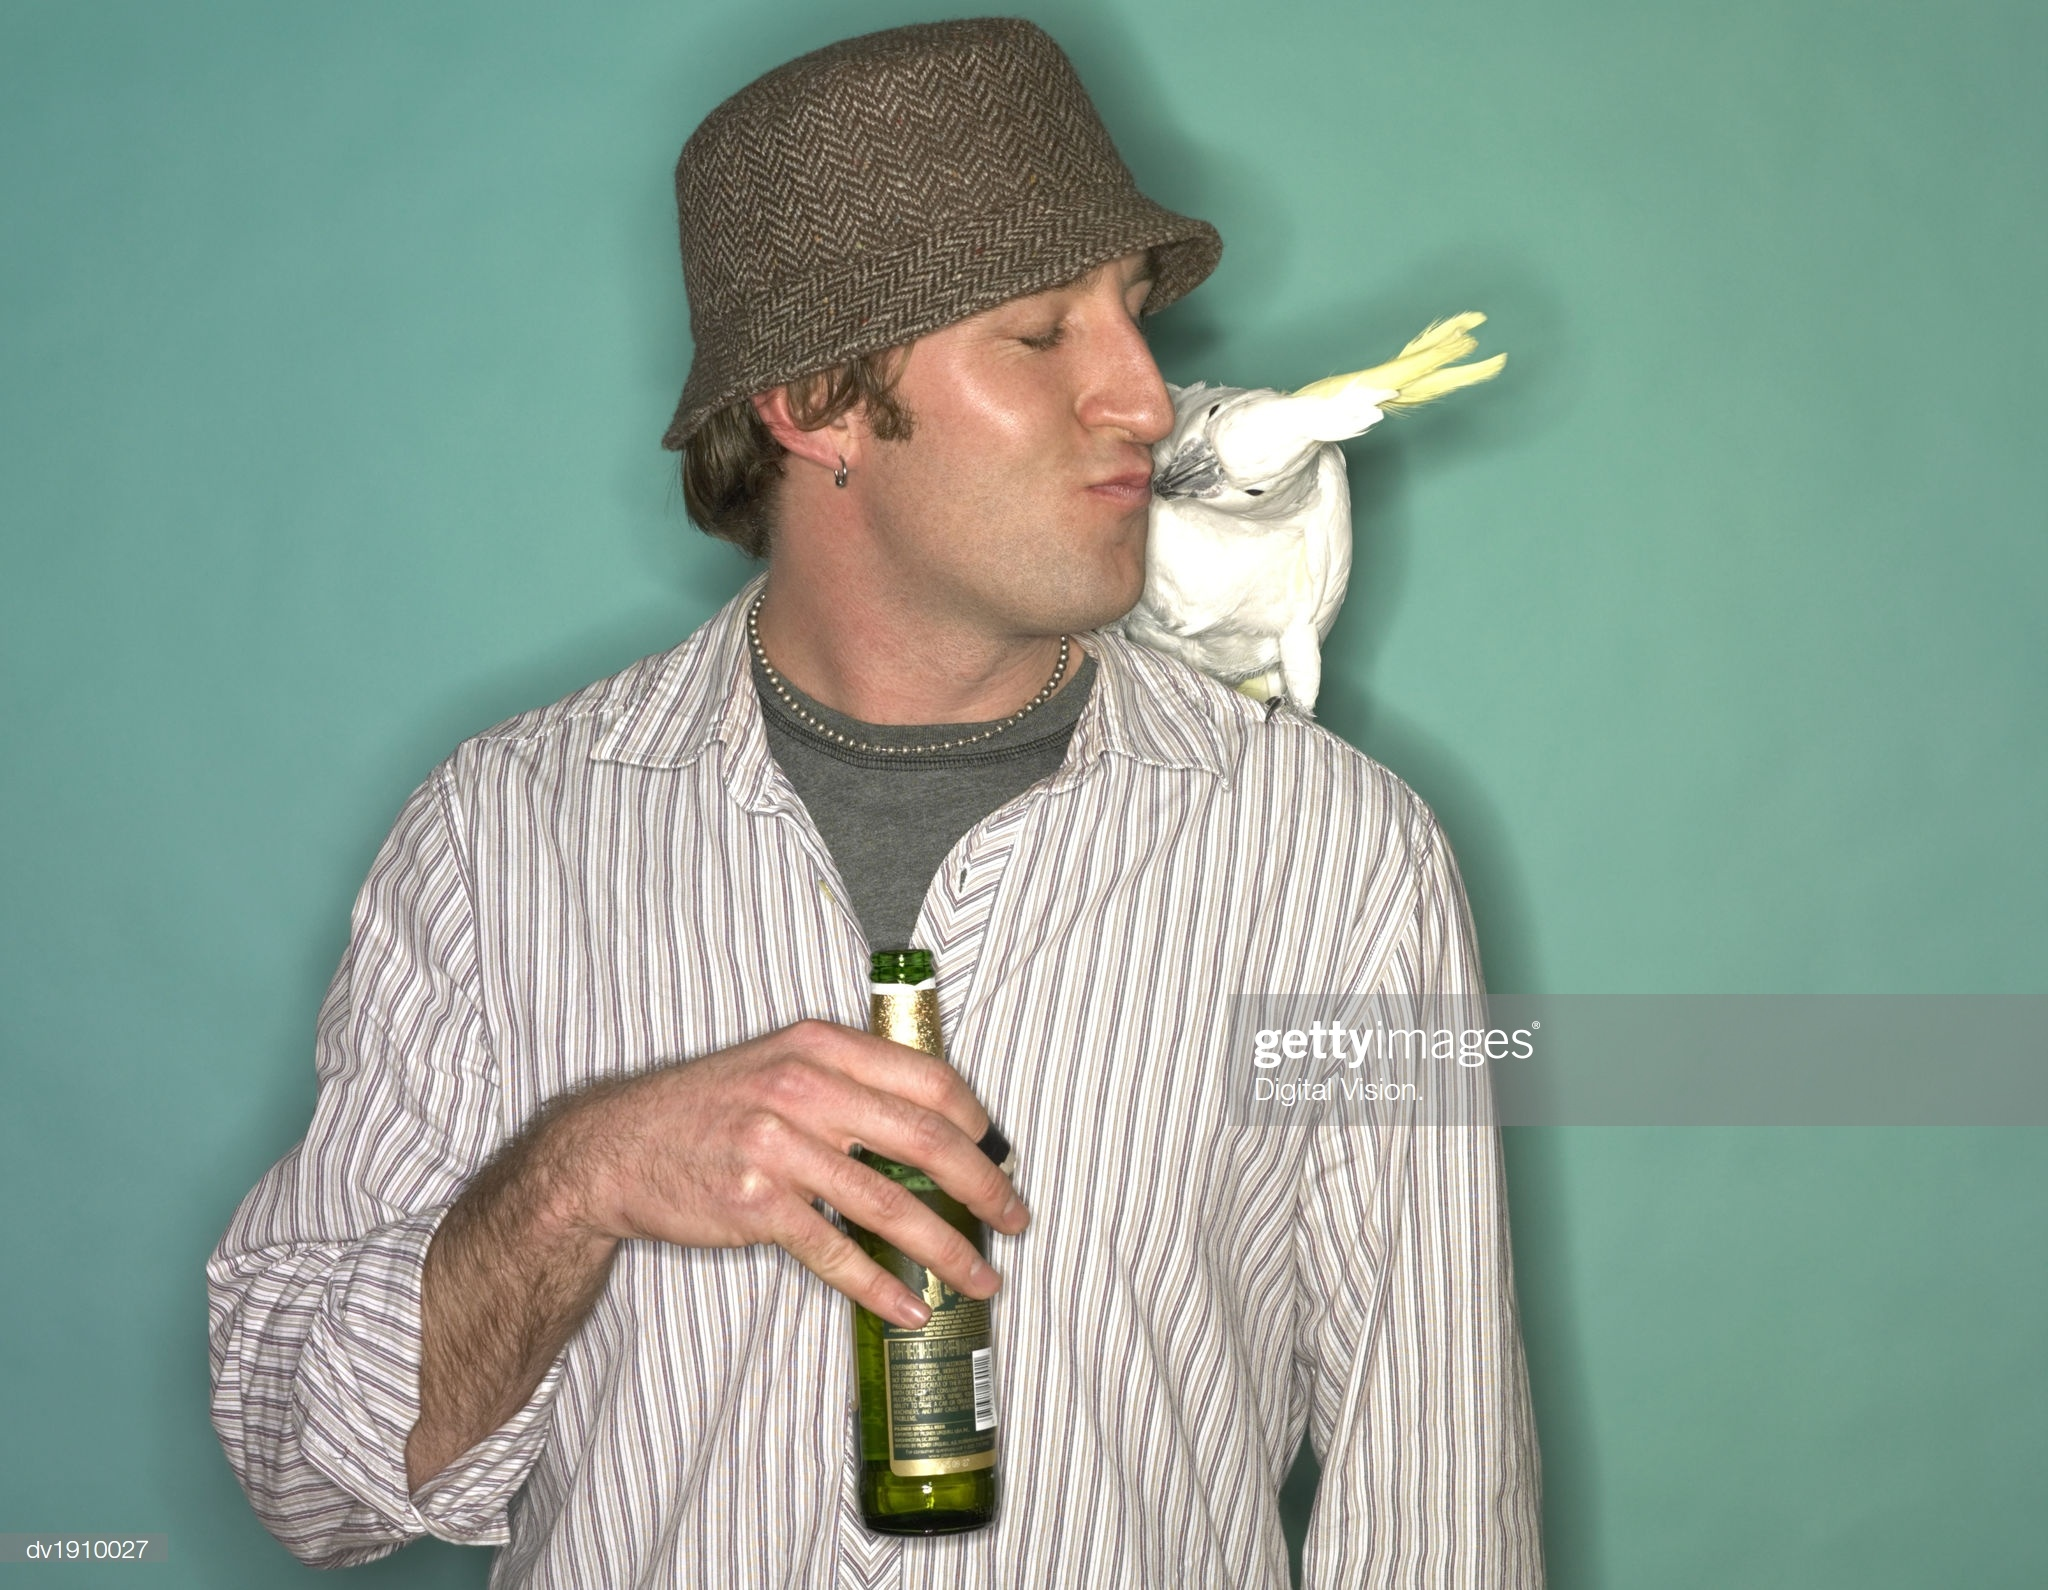beerBottle: (848, 946, 1016, 1543)
